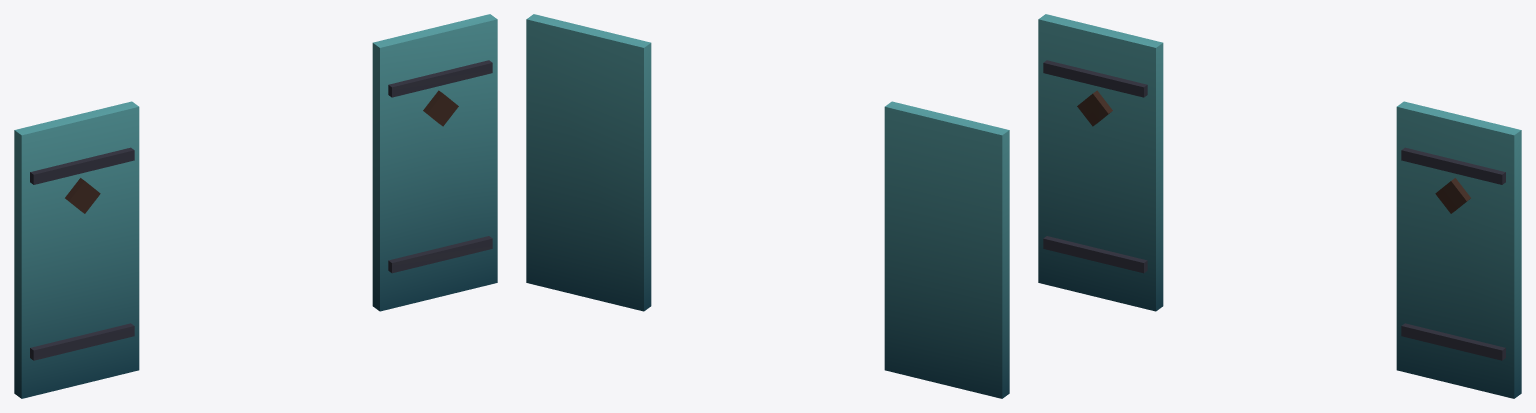
File: shutters.glb
The picture shows the model from 3 angles, left to right: view 1: azimuth 30°, elevation 25°; view 2: azimuth 150°, elevation 25°; view 3: azimuth 330°, elevation 25°; orthographic projection.
Parts seen in each view (by area): view 1: Shutters; view 2: Shutters; view 3: Shutters.
Boxes of the visible parts, bbox=[...] form: Shutters: bbox=[14, 14, 497, 398]; Shutters: bbox=[526, 14, 1009, 398]; Shutters: bbox=[1038, 14, 1521, 398].
Bounding box in the file's own units: 1.7 × 0.9 × 0.0725.
